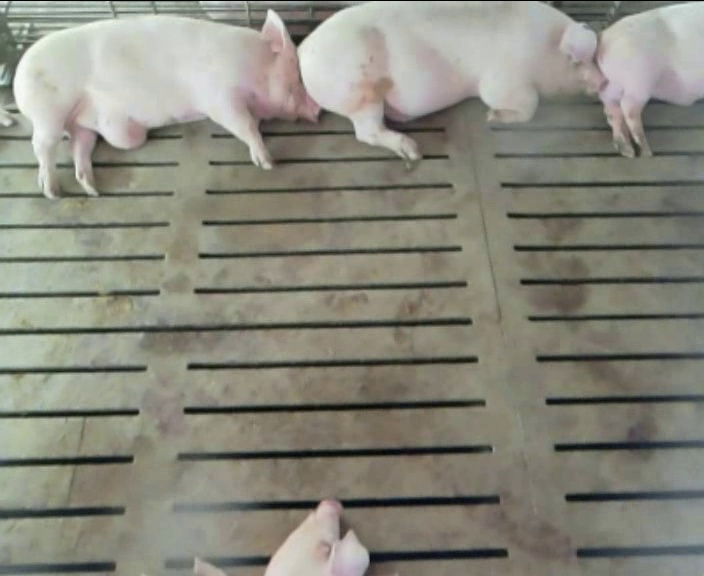pig: (14, 10, 319, 198), (298, 2, 603, 160), (596, 2, 703, 156)
